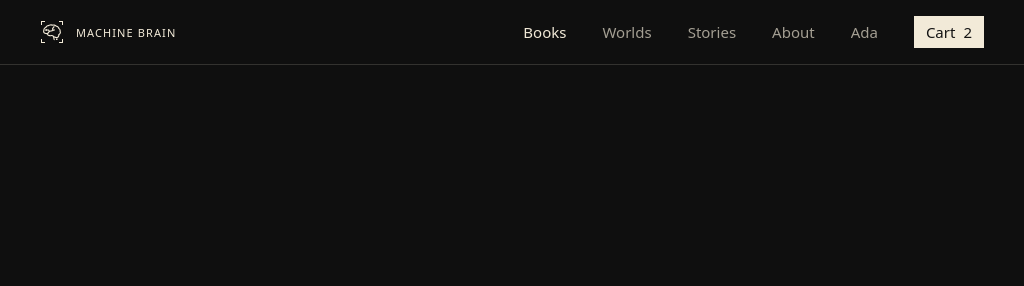
Test: Navbar › moves account-menu focus with arrow keys and restores it on Escape
Step 1. Click the button named "Account, Ada" → x=864, y=32, box [851,10,878,54]
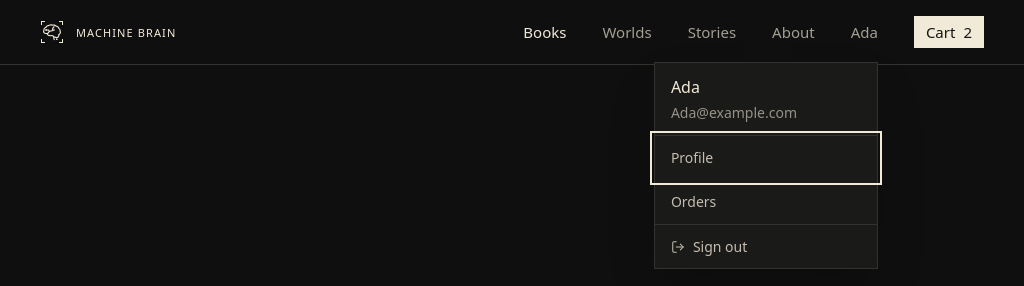
Step 2. Press ArrowDown
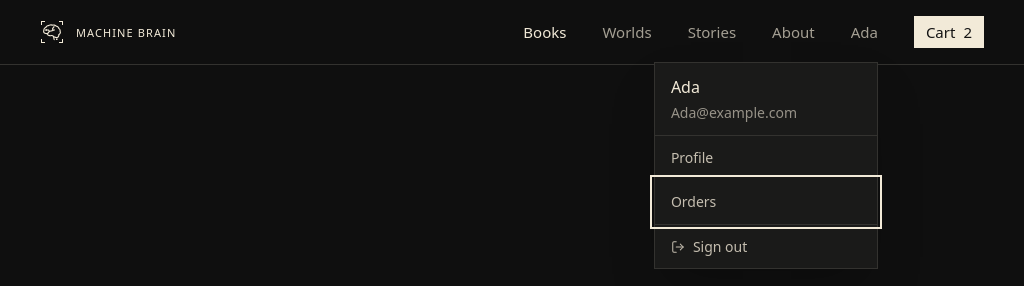
Step 3. Press Escape
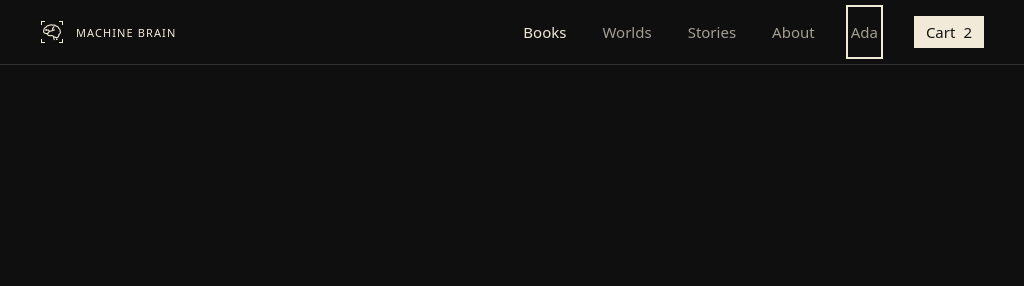
Check: the menu is gone
